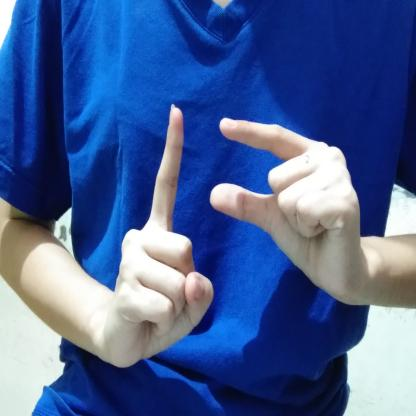daughter: (102, 98, 369, 372)
